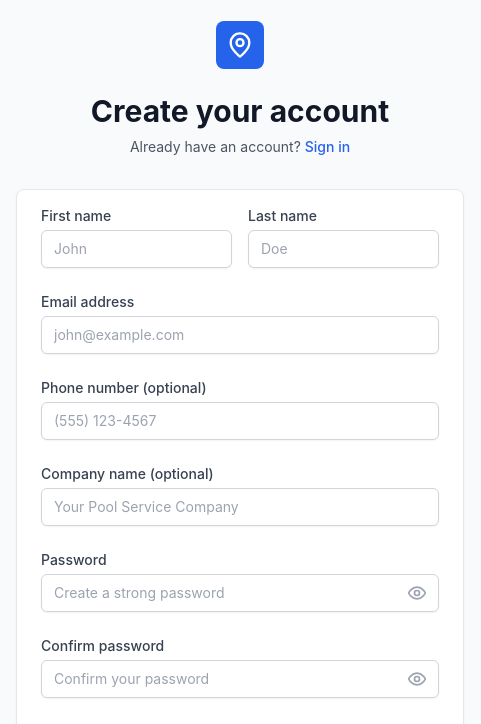
RegisterPage › Form Validation › should validate password match
In the password field labelled "Password": [240, 593] box x1=41 y1=574 x2=439 y2=612, type "Password123"
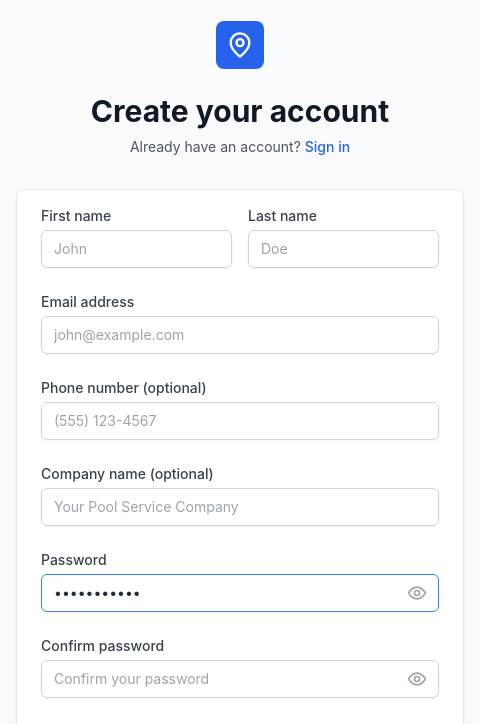
In the password field labelled "Confirm password": [240, 679] box x1=41 y1=660 x2=439 y2=698, type "Password456"
(page scrolled)
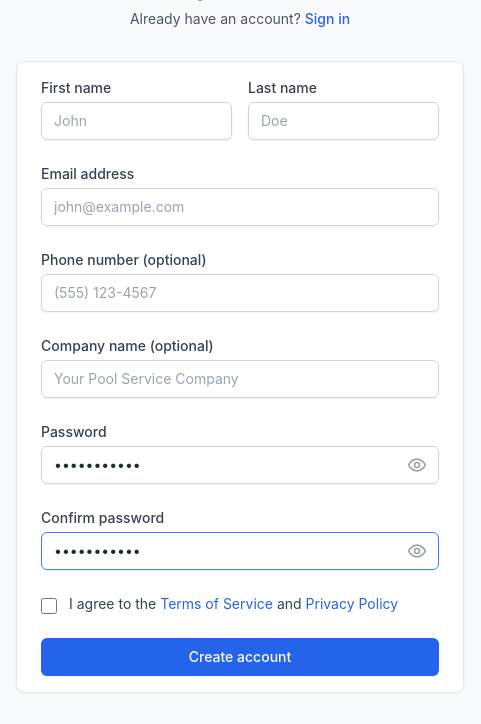
Click the button "Create account": [240, 657] box x1=41 y1=638 x2=439 y2=676
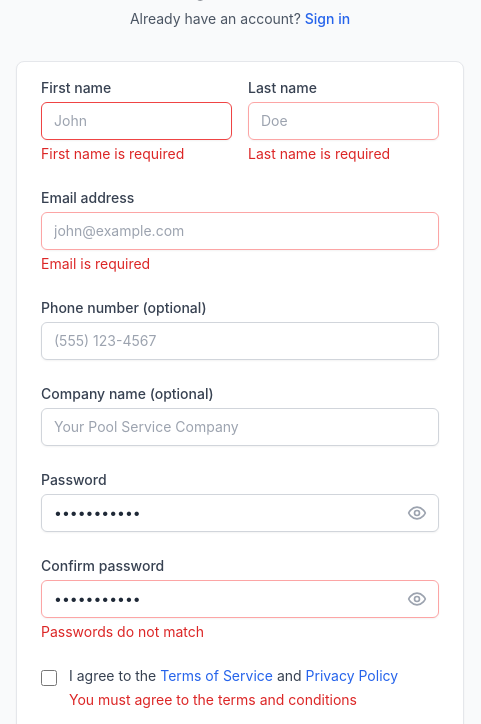
Check: the text "Passwords do not match" is shown, box x1=41 y1=623 x2=204 y2=640
